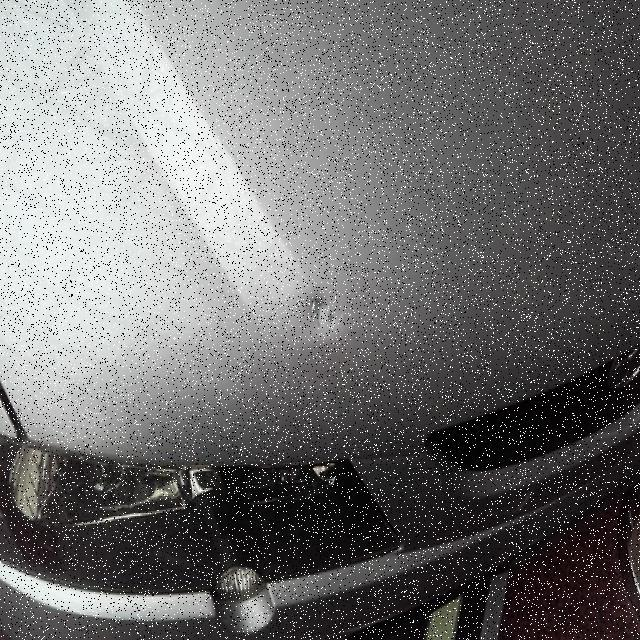bonnet-dent: (113, 3, 586, 558)
